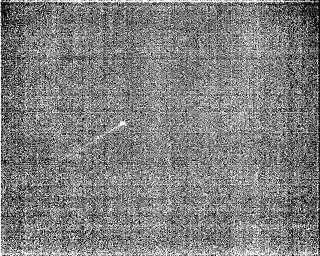AIRPLANE: (58, 120, 128, 163)
